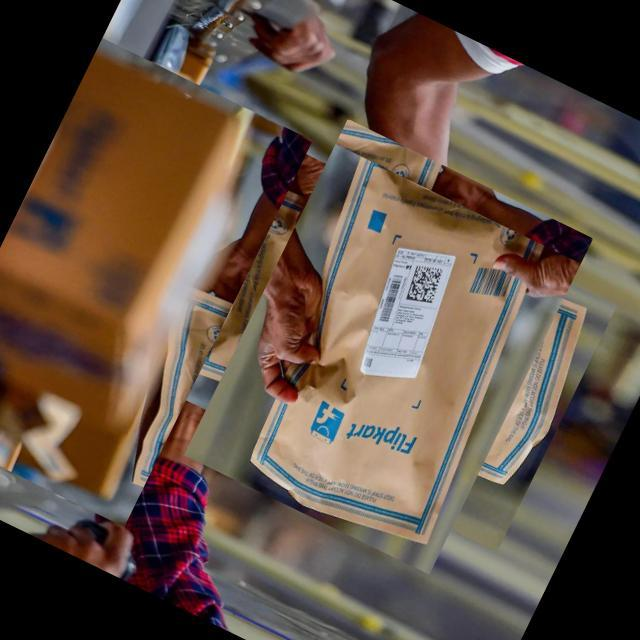cardboxes: (172, 129, 605, 562)
